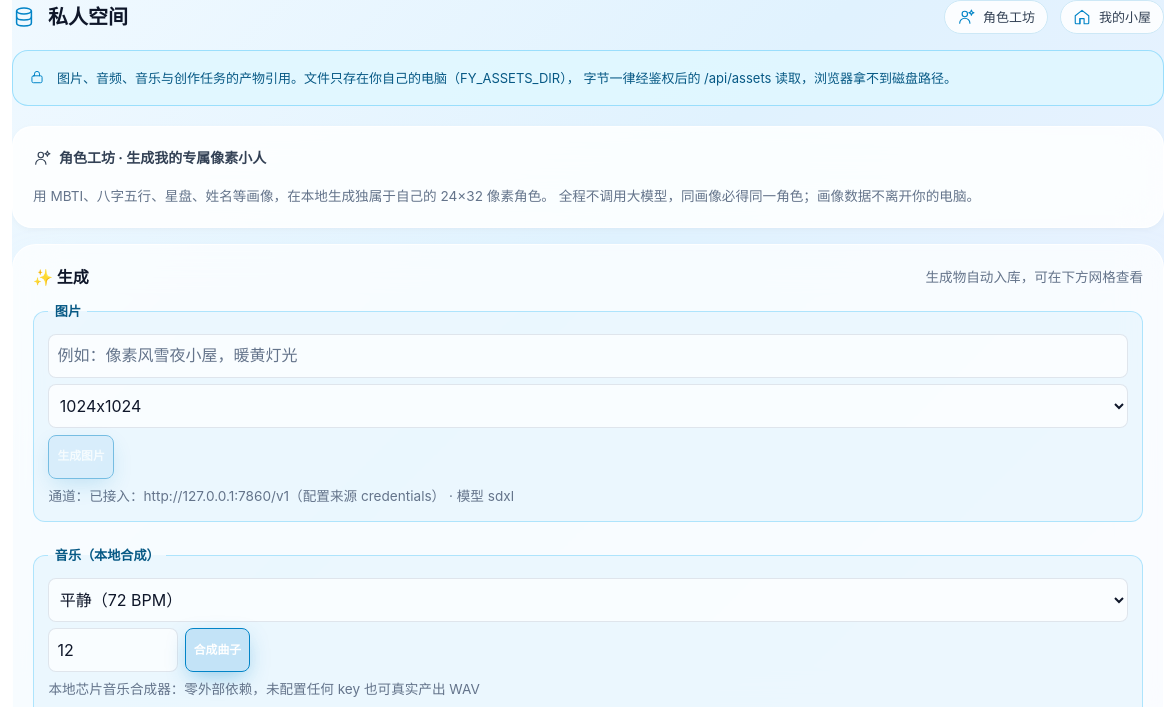
Test: PrivateSpacePage · 图片通道诚实性 › 生成失败原样展示后端 code，不假装成功
This screenshot has width=1176, height=707.
Type "猫" into the field with test id "asset-image-prompt". click: (588, 356)
box: [48,334,1128,378]
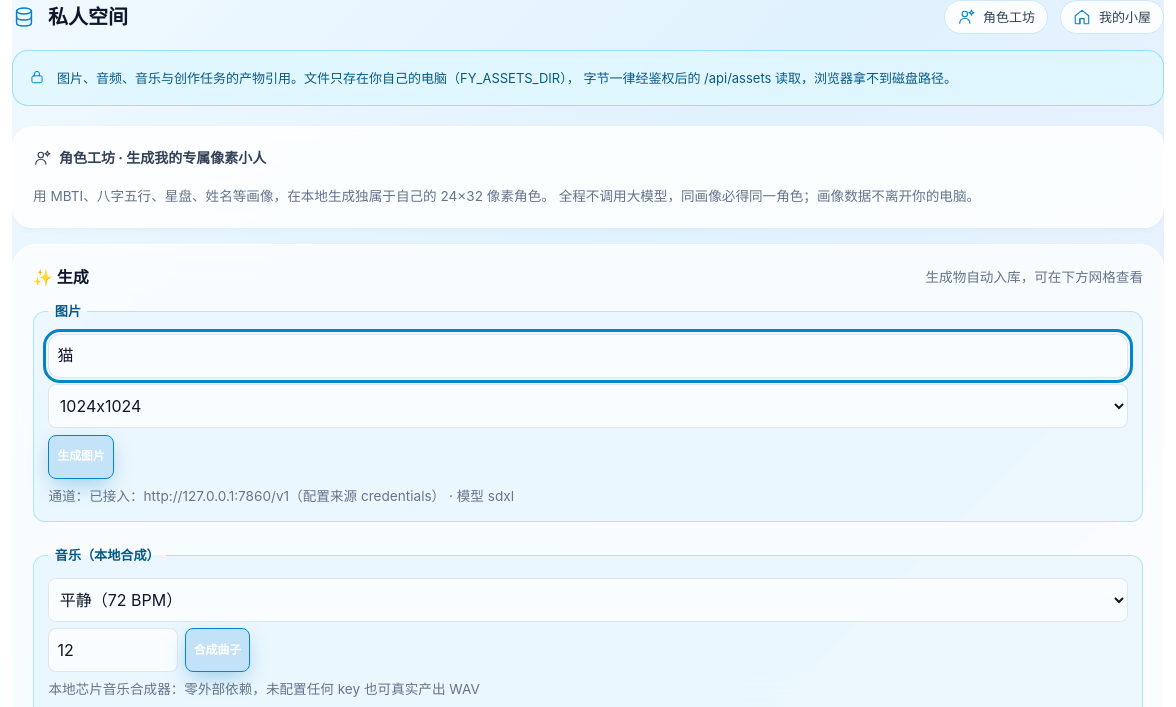
Click the button with test id "asset-image-generate". click: (81, 456)
box: [48,434,114,478]
(page scrolled)
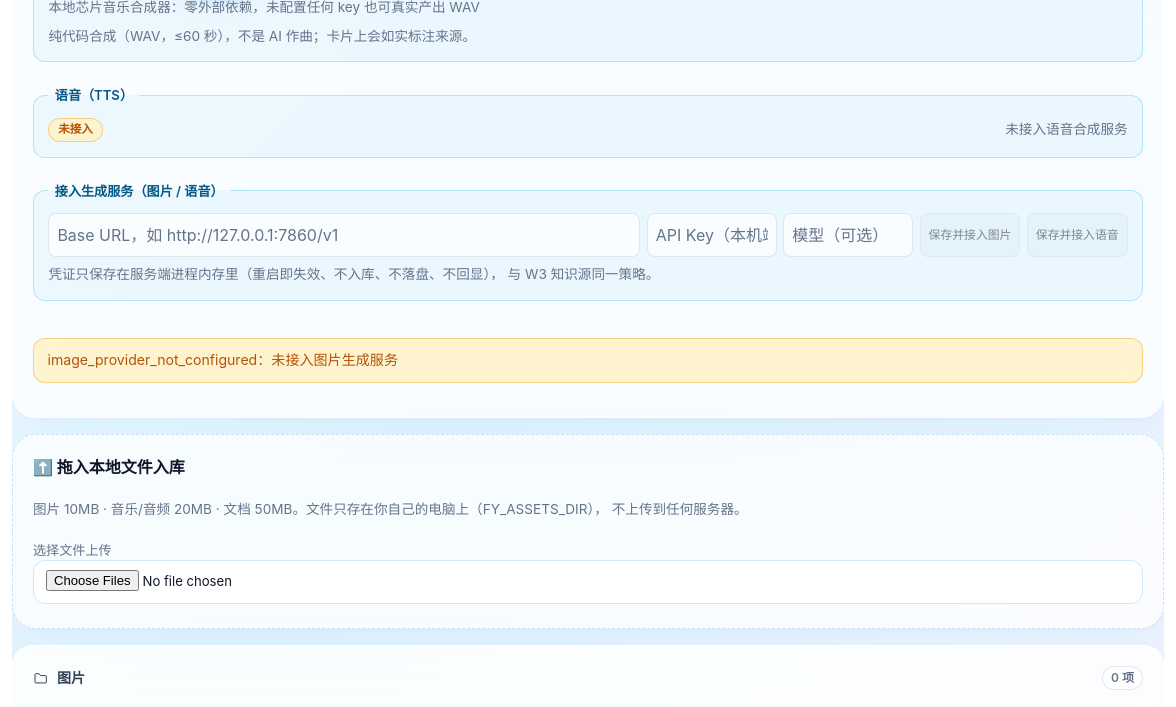
Expected: the message with test id "asset-generate-error" shows "image_provider_not_configured", [48,351,398,368]
